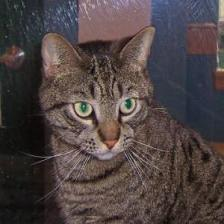cat: (36, 26, 162, 165)
